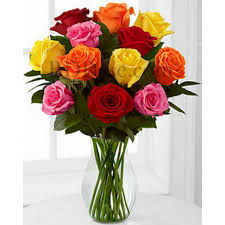lale: (85, 80, 135, 133), (109, 17, 158, 57), (59, 45, 105, 85), (89, 0, 137, 37), (101, 46, 143, 88), (29, 32, 65, 81), (59, 15, 106, 52), (128, 85, 170, 124), (39, 83, 81, 122), (151, 49, 189, 89), (136, 15, 169, 49)
